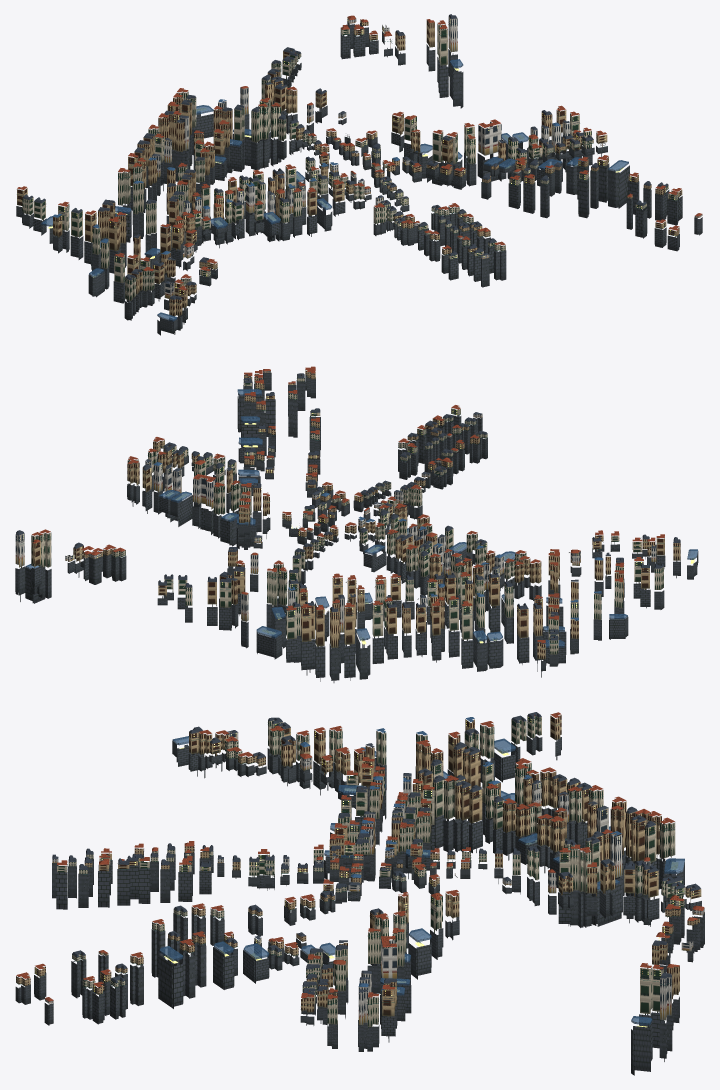
The model's file is osm_buildings_T_E00_S01_Q3.glb.
3 renders of one model, top to bottom at view 1: azimuth 30°, elevation 25°; view 2: azimuth 150°, elevation 25°; view 3: azimuth 270°, elevation 25°, orthographic. The views are drawn at different scales.
Visible parts, largest first — view 1: OSM_PBR_T_E00_S01_Q3_foundation, OSM_PBR_T_E00_S01_Q3_wall_french_ochre, OSM_PBR_T_E00_S01_Q3_wall_cream_stucco, OSM_PBR_T_E00_S01_Q3_roof_terracotta, OSM_PBR_T_E00_S01_Q3_roof_mansard_slate, OSM_PBR_T_E00_S01_Q3_greenhouse_blend, OSM_PBR_T_E00_S01_Q3_wall_warm_white, OSM_PBR_T_E00_S01_Q3_wall_pastel_sand, OSM_PBR_T_E00_S01_Q3_roof_mansard_deck, OSM_PBR_T_E00_S01_Q3_roof_mint_metal, OSM_PBR_T_E00_S01_Q3_balcony_railing, OSM_PBR_T_E00_S01_Q3_trim_cornice; view 2: OSM_PBR_T_E00_S01_Q3_foundation, OSM_PBR_T_E00_S01_Q3_wall_french_ochre, OSM_PBR_T_E00_S01_Q3_wall_cream_stucco, OSM_PBR_T_E00_S01_Q3_roof_terracotta, OSM_PBR_T_E00_S01_Q3_roof_mansard_slate, OSM_PBR_T_E00_S01_Q3_greenhouse_blend, OSM_PBR_T_E00_S01_Q3_wall_warm_white, OSM_PBR_T_E00_S01_Q3_wall_pastel_sand, OSM_PBR_T_E00_S01_Q3_roof_mansard_deck, OSM_PBR_T_E00_S01_Q3_roof_mint_metal, OSM_PBR_T_E00_S01_Q3_balcony_railing, OSM_PBR_T_E00_S01_Q3_trim_cornice; view 3: OSM_PBR_T_E00_S01_Q3_foundation, OSM_PBR_T_E00_S01_Q3_wall_french_ochre, OSM_PBR_T_E00_S01_Q3_wall_cream_stucco, OSM_PBR_T_E00_S01_Q3_roof_terracotta, OSM_PBR_T_E00_S01_Q3_roof_mansard_slate, OSM_PBR_T_E00_S01_Q3_greenhouse_blend, OSM_PBR_T_E00_S01_Q3_wall_warm_white, OSM_PBR_T_E00_S01_Q3_roof_mansard_deck, OSM_PBR_T_E00_S01_Q3_wall_pastel_sand, OSM_PBR_T_E00_S01_Q3_roof_mint_metal, OSM_PBR_T_E00_S01_Q3_trim_cornice, OSM_PBR_T_E00_S01_Q3_balcony_railing (+1 smaller).
Boxes of the visible parts, x1=… form: OSM_PBR_T_E00_S01_Q3_foundation: x1=16, y1=21, x2=702, y2=335; OSM_PBR_T_E00_S01_Q3_wall_french_ochre: x1=17, y1=19, x2=682, y2=316; OSM_PBR_T_E00_S01_Q3_wall_cream_stucco: x1=22, y1=24, x2=677, y2=300; OSM_PBR_T_E00_S01_Q3_roof_terracotta: x1=17, y1=15, x2=701, y2=290; OSM_PBR_T_E00_S01_Q3_roof_mansard_slate: x1=22, y1=15, x2=668, y2=299; OSM_PBR_T_E00_S01_Q3_greenhouse_blend: x1=41, y1=59, x2=628, y2=321; OSM_PBR_T_E00_S01_Q3_wall_warm_white: x1=164, y1=16, x2=702, y2=298; OSM_PBR_T_E00_S01_Q3_wall_pastel_sand: x1=152, y1=17, x2=570, y2=258; OSM_PBR_T_E00_S01_Q3_roof_mansard_deck: x1=23, y1=14, x2=666, y2=321; OSM_PBR_T_E00_S01_Q3_roof_mint_metal: x1=17, y1=23, x2=679, y2=303; OSM_PBR_T_E00_S01_Q3_balcony_railing: x1=31, y1=19, x2=681, y2=297; OSM_PBR_T_E00_S01_Q3_trim_cornice: x1=19, y1=18, x2=698, y2=301; OSM_PBR_T_E00_S01_Q3_foundation: x1=15, y1=372, x2=698, y2=682; OSM_PBR_T_E00_S01_Q3_wall_french_ochre: x1=21, y1=369, x2=680, y2=659; OSM_PBR_T_E00_S01_Q3_wall_cream_stucco: x1=31, y1=373, x2=663, y2=654; OSM_PBR_T_E00_S01_Q3_roof_terracotta: x1=32, y1=366, x2=664, y2=643; OSM_PBR_T_E00_S01_Q3_roof_mansard_slate: x1=16, y1=374, x2=680, y2=640; OSM_PBR_T_E00_S01_Q3_greenhouse_blend: x1=25, y1=389, x2=697, y2=647; OSM_PBR_T_E00_S01_Q3_wall_warm_white: x1=15, y1=371, x2=656, y2=621; OSM_PBR_T_E00_S01_Q3_wall_pastel_sand: x1=89, y1=435, x2=580, y2=632; OSM_PBR_T_E00_S01_Q3_roof_mansard_deck: x1=17, y1=373, x2=693, y2=647; OSM_PBR_T_E00_S01_Q3_roof_mint_metal: x1=16, y1=375, x2=678, y2=649; OSM_PBR_T_E00_S01_Q3_balcony_railing: x1=20, y1=372, x2=648, y2=617; OSM_PBR_T_E00_S01_Q3_trim_cornice: x1=16, y1=371, x2=679, y2=647; OSM_PBR_T_E00_S01_Q3_foundation: x1=15, y1=736, x2=704, y2=1075; OSM_PBR_T_E00_S01_Q3_wall_french_ochre: x1=16, y1=715, x2=701, y2=1016; OSM_PBR_T_E00_S01_Q3_wall_cream_stucco: x1=57, y1=716, x2=685, y2=1029; OSM_PBR_T_E00_S01_Q3_roof_terracotta: x1=16, y1=712, x2=704, y2=1001; OSM_PBR_T_E00_S01_Q3_roof_mansard_slate: x1=52, y1=713, x2=700, y2=994; OSM_PBR_T_E00_S01_Q3_greenhouse_blend: x1=159, y1=736, x2=684, y2=1025; OSM_PBR_T_E00_S01_Q3_wall_warm_white: x1=45, y1=731, x2=693, y2=1020; OSM_PBR_T_E00_S01_Q3_roof_mansard_deck: x1=69, y1=712, x2=699, y2=1024; OSM_PBR_T_E00_S01_Q3_wall_pastel_sand: x1=268, y1=756, x2=704, y2=1025; OSM_PBR_T_E00_S01_Q3_roof_mint_metal: x1=17, y1=720, x2=700, y2=1005; OSM_PBR_T_E00_S01_Q3_trim_cornice: x1=16, y1=716, x2=701, y2=1003; OSM_PBR_T_E00_S01_Q3_balcony_railing: x1=18, y1=721, x2=699, y2=1009.
Size of the model in its own units: 1003 by 193 by 969.
Materials: 18 (16 with a texture image).
